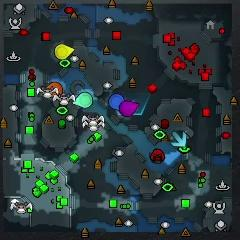p1: (109, 93, 125, 111)
p2: (73, 92, 93, 109)
p3: (119, 101, 140, 117)
p4: (55, 44, 74, 60)
p5: (45, 82, 62, 97)
x3: (172, 131, 187, 147)
